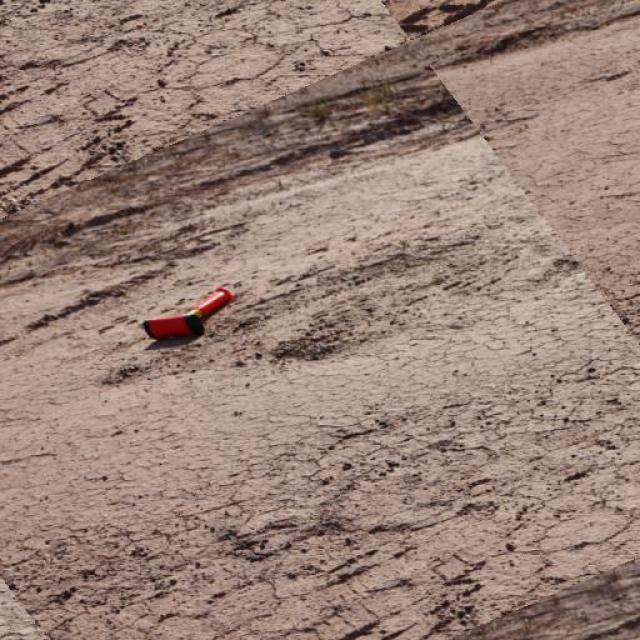mallet: (140, 285, 236, 341)
